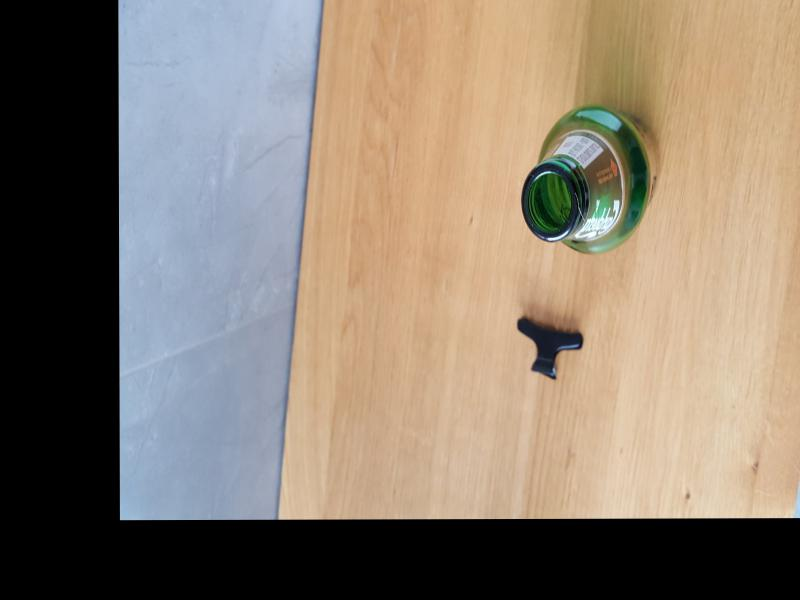Beer: (521, 105, 661, 258)
